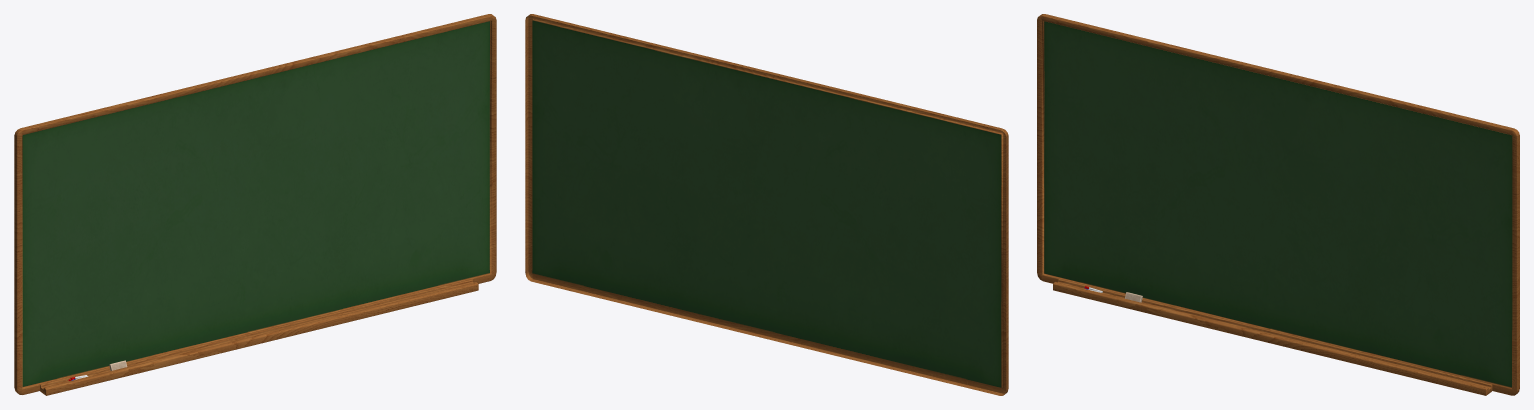
File: BoardA.fbx
3 renders of one model, left to right at view 1: azimuth 30°, elevation 25°; view 2: azimuth 150°, elevation 25°; view 3: azimuth 330°, elevation 25°, orthographic.
Visible parts, largest first — view 1: BoardA; view 2: BoardA; view 3: BoardA.
Boxes of the visible parts, <box> form: BoardA: <box>14,14,496,395</box>; BoardA: <box>525,14,1008,395</box>; BoardA: <box>1037,14,1519,395</box>.
Bounding box in the file's own units: 384 × 203 × 12.79.
